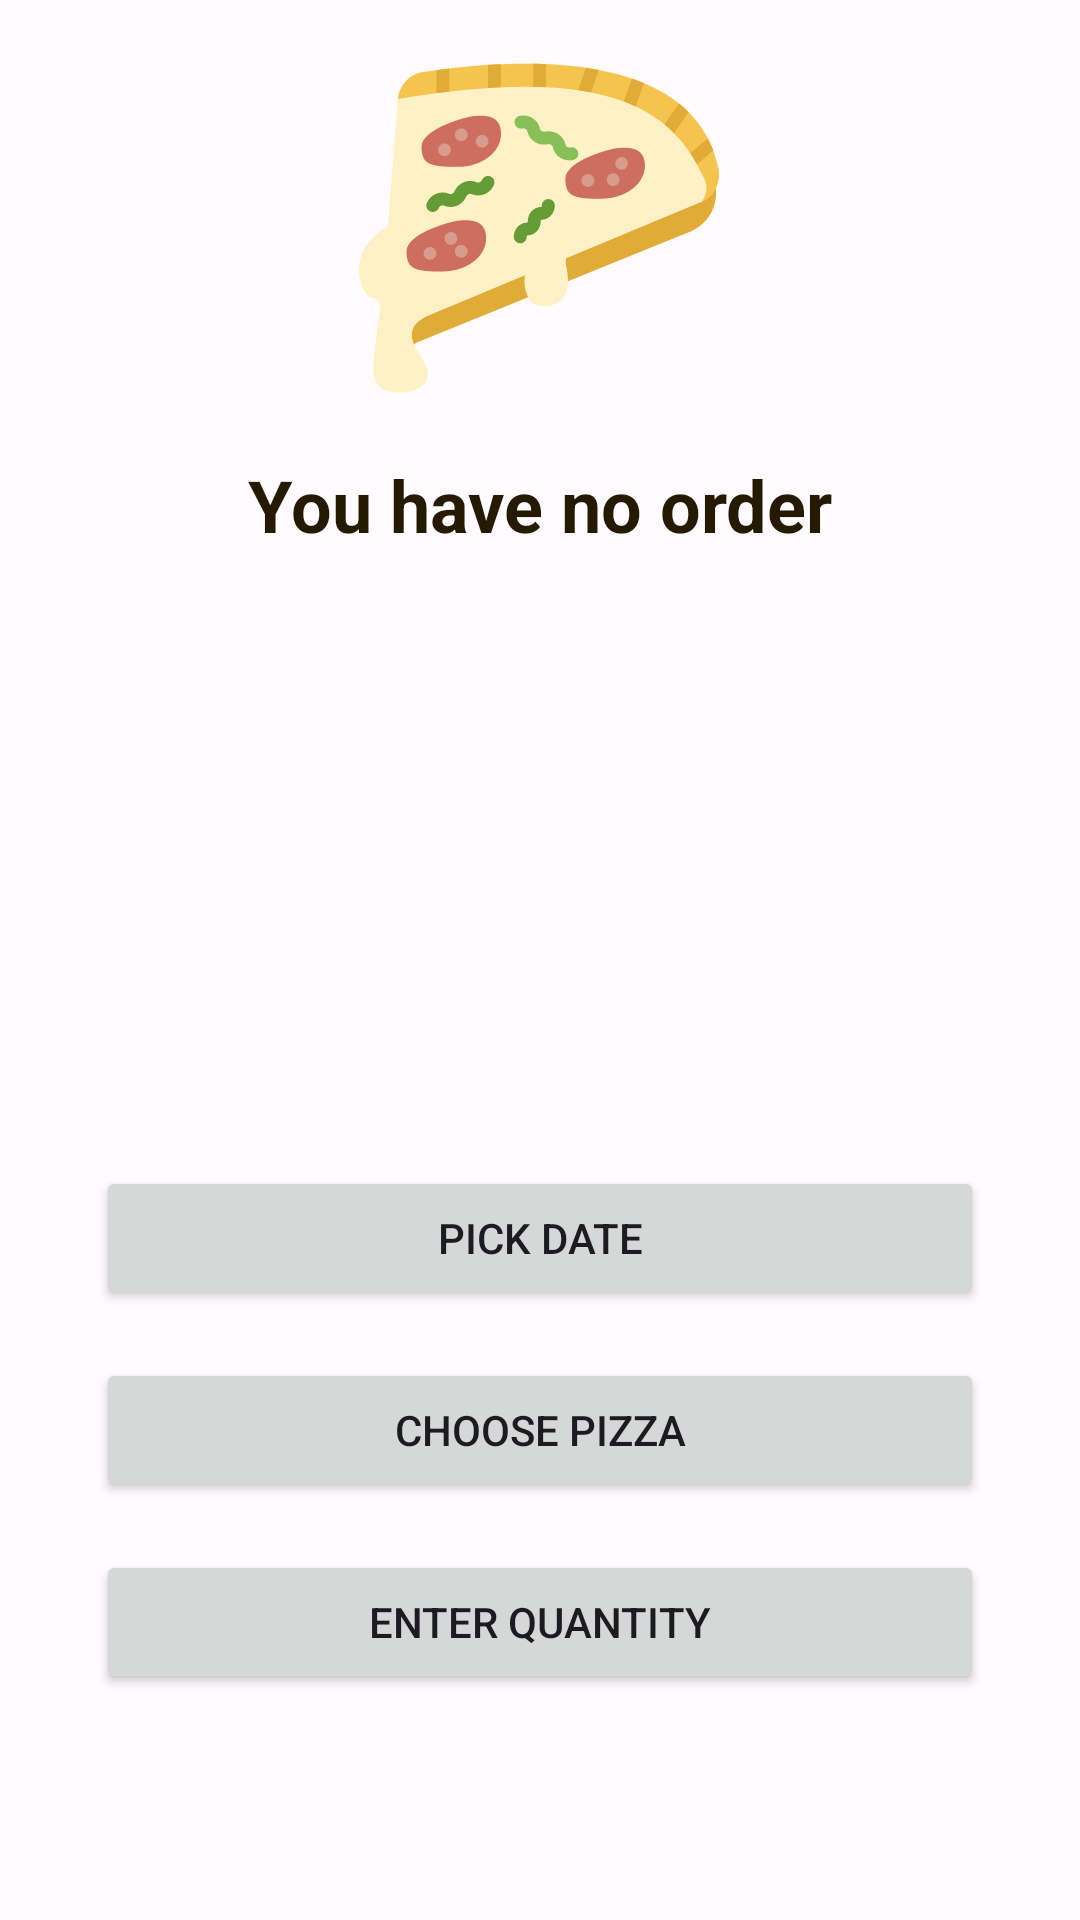

Icon click points for this 1080 × 1920 phone screenshot, format (x=x, y=y):
pizza slice: (x=539, y=228)
